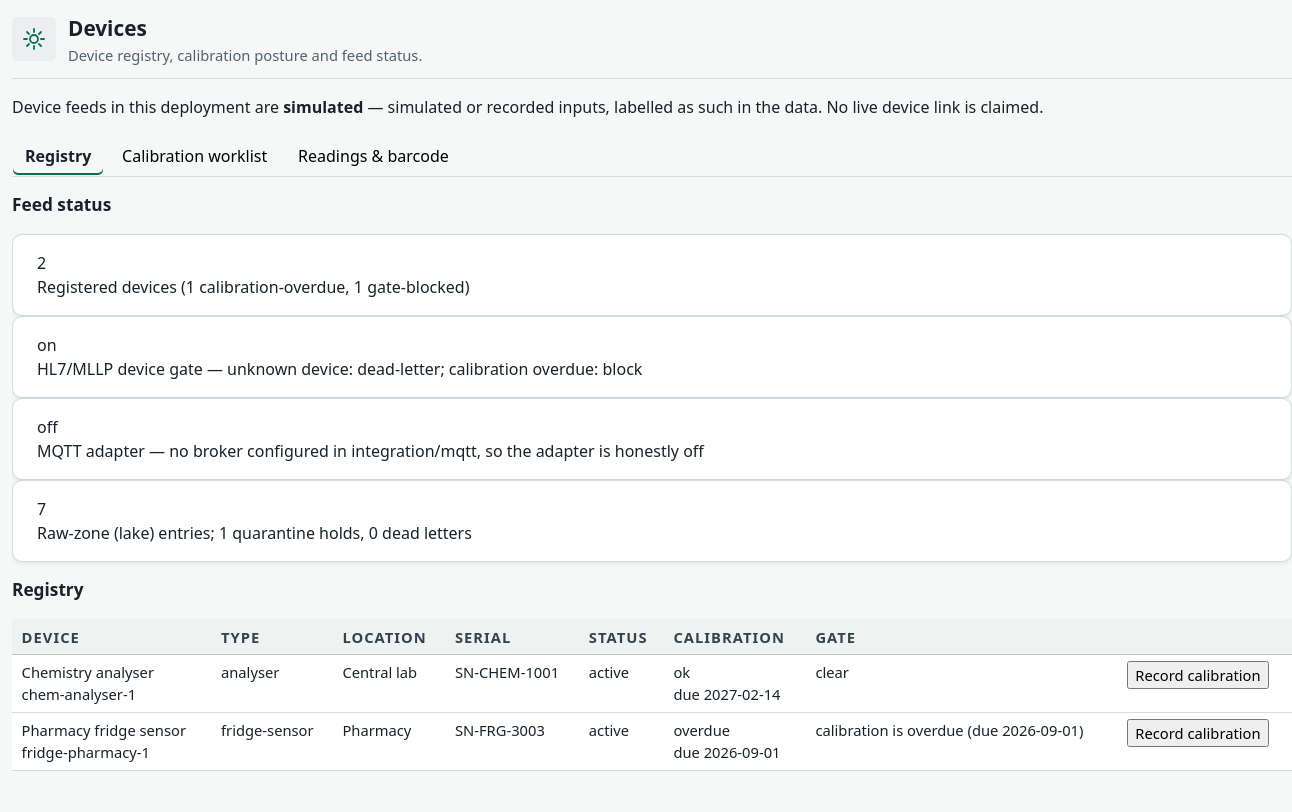
Test: DevicesPage › records a calibration through the client for a manage role
The image size is (1292, 812).
Step 1. Click the button "Record calibration" in the row of "Pharmacy fridge sensor" → [1198, 733], box [1127,719,1268,747]
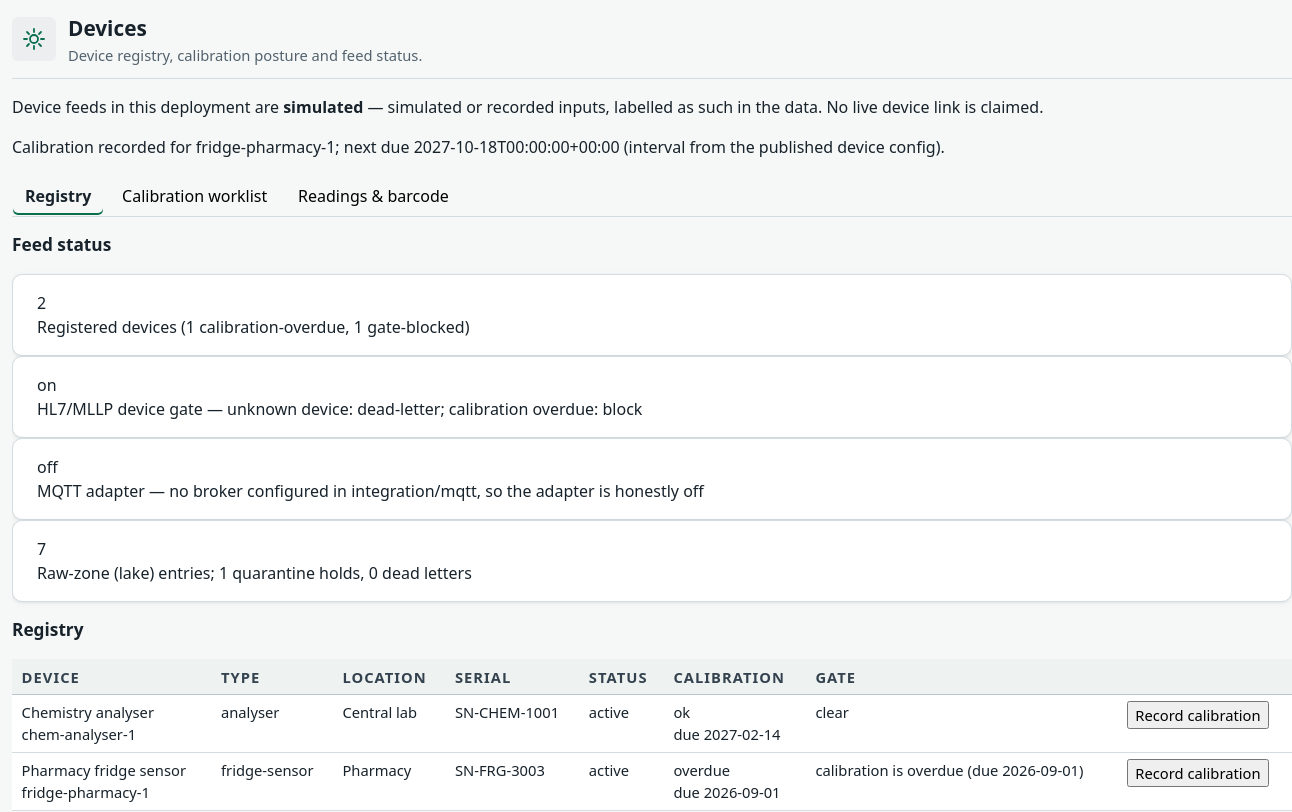
Expected: the text "Calibration recorded for fridge-pharmacy-1" is shown, [12,136,945,158]
